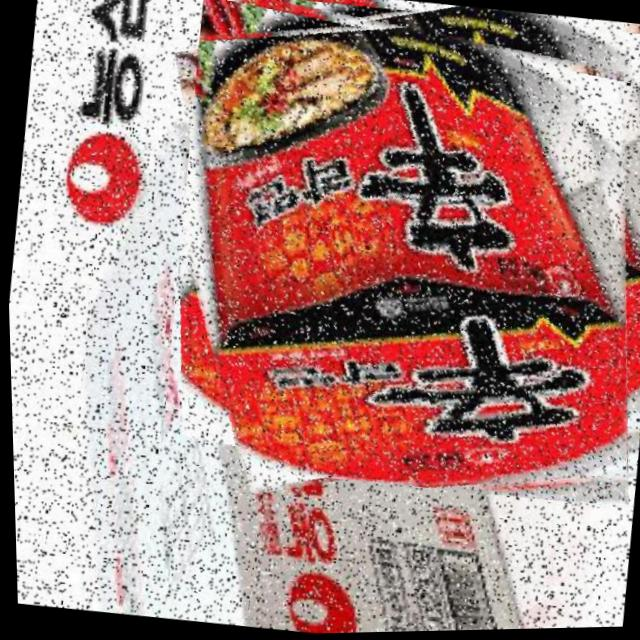Miscellaneous: (146, 0, 640, 517)
